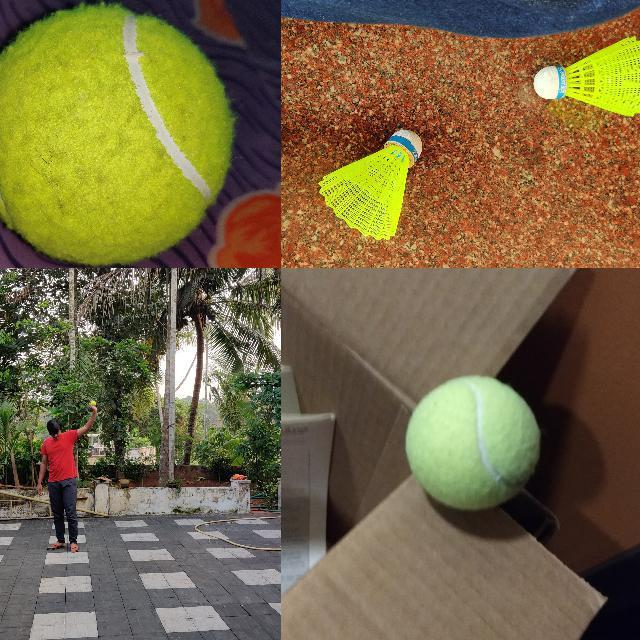tennis-ball: (0, 2, 234, 266), (404, 374, 542, 512), (91, 401, 96, 406)
